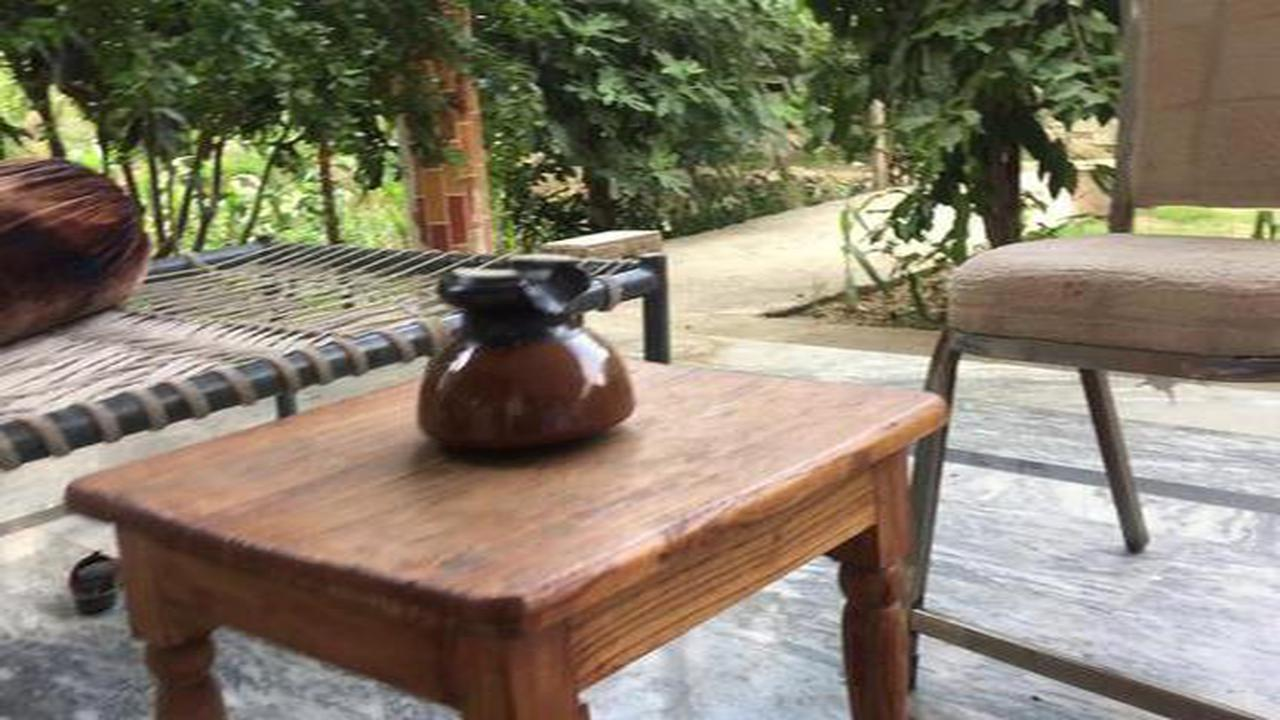insulator_pin: (407, 241, 656, 470)
